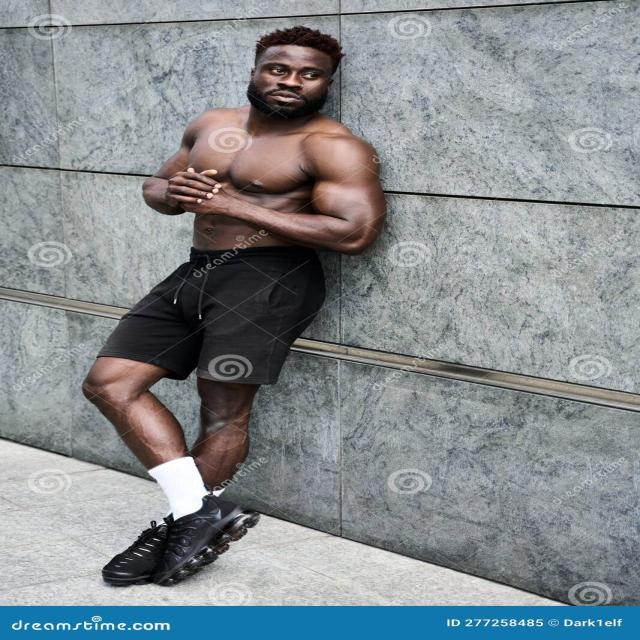sem_oculos: (244, 59, 334, 82)
